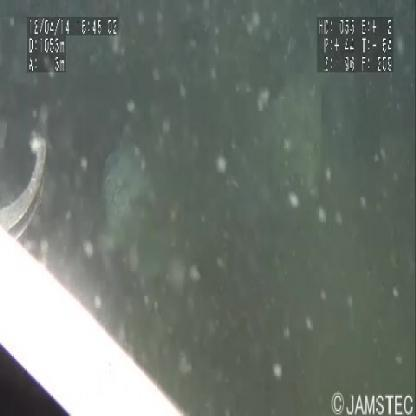Rác: (104, 123, 157, 259)
